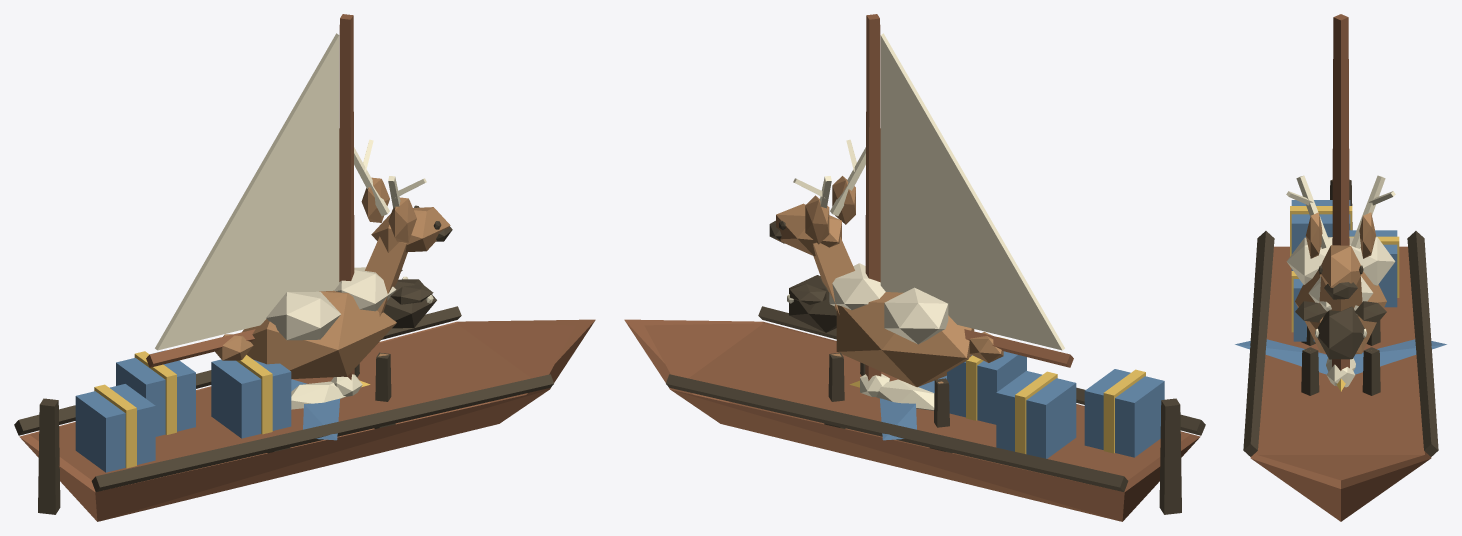
The model's file is ENV_LivingWorld_LOD1.glb.
3 renders of one model, left to right at view 1: azimuth 30°, elevation 25°; view 2: azimuth 150°, elevation 25°; view 3: azimuth 270°, elevation 25°, orthographic. The views are drawn at different scales.
Parts seen in each view (by area): view 1: LivingWorld_boat_sail_LOD1, LivingWorld_boat_deck_LOD1, LivingWorld_boat_hull_LOD1, LivingWorld_boat_gunwale_LOD1.001, LivingWorld_deer_body_LOD1, LivingWorld_boat_cargo_LOD1.002, LivingWorld_boat_cargo_LOD1.001, LivingWorld_boat_mast_LOD1, LivingWorld_boat_cargo_LOD1, LivingWorld_sheep_fleece_LOD1.001, LivingWorld_boat_rudder_LOD1, LivingWorld_boat_gunwale_LOD1 (+14 smaller); view 2: LivingWorld_boat_sail_LOD1, LivingWorld_boat_deck_LOD1, LivingWorld_boat_hull_LOD1, LivingWorld_boat_gunwale_LOD1, LivingWorld_deer_body_LOD1, LivingWorld_boat_cargo_LOD1, LivingWorld_boat_cargo_LOD1.002, LivingWorld_boat_mast_LOD1, LivingWorld_boat_cargo_LOD1.001, LivingWorld_sheep_fleece_LOD1.002, LivingWorld_boat_rudder_LOD1, LivingWorld_deer_face_LOD1 (+15 smaller); view 3: LivingWorld_boat_deck_LOD1, LivingWorld_boat_hull_LOD1, LivingWorld_boat_mast_LOD1, LivingWorld_boat_gunwale_LOD1, LivingWorld_boat_gunwale_LOD1.001, LivingWorld_sheep_face_LOD1, LivingWorld_deer_face_LOD1, LivingWorld_deer_body_LOD1, LivingWorld_sheep_fleece_LOD1.002, LivingWorld_sheep_fleece_LOD1.001, LivingWorld_boat_cargo_LOD1.002, LivingWorld_boat_cargo_LOD1 (+17 smaller).
Part boxes in pixels (box(x1,y1,x2,y2)): LivingWorld_boat_sail_LOD1: box(155, 33, 339, 350); LivingWorld_boat_deck_LOD1: box(30, 323, 575, 479); LivingWorld_boat_hull_LOD1: box(19, 319, 595, 521); LivingWorld_boat_gunwale_LOD1.001: box(91, 374, 553, 491); LivingWorld_deer_body_LOD1: box(242, 290, 396, 378); LivingWorld_boat_cargo_LOD1.002: box(75, 384, 155, 472); LivingWorld_boat_cargo_LOD1.001: box(211, 359, 291, 438); LivingWorld_boat_mast_LOD1: box(339, 14, 354, 379); LivingWorld_boat_cargo_LOD1: box(116, 350, 195, 436); LivingWorld_sheep_fleece_LOD1.001: box(266, 291, 340, 340); LivingWorld_boat_rudder_LOD1: box(38, 398, 60, 514); LivingWorld_boat_gunwale_LOD1: box(14, 306, 461, 435); LivingWorld_boat_sail_LOD1: box(880, 33, 1064, 350); LivingWorld_boat_deck_LOD1: box(644, 323, 1189, 479); LivingWorld_boat_hull_LOD1: box(624, 319, 1200, 521); LivingWorld_boat_gunwale_LOD1: box(666, 374, 1128, 491); LivingWorld_deer_body_LOD1: box(836, 292, 974, 387); LivingWorld_boat_cargo_LOD1: box(996, 371, 1076, 458); LivingWorld_boat_cargo_LOD1.002: box(1084, 369, 1164, 457); LivingWorld_boat_mast_LOD1: box(865, 14, 881, 380); LivingWorld_boat_cargo_LOD1.001: box(947, 351, 1026, 424); LivingWorld_sheep_fleece_LOD1.002: box(884, 287, 948, 344); LivingWorld_boat_rudder_LOD1: box(1159, 398, 1181, 514); LivingWorld_deer_face_LOD1: box(776, 203, 841, 256); LivingWorld_boat_deck_LOD1: box(1257, 248, 1424, 480); LivingWorld_boat_hull_LOD1: box(1250, 246, 1431, 521); LivingWorld_boat_mast_LOD1: box(1332, 14, 1349, 370); LivingWorld_boat_gunwale_LOD1: box(1407, 231, 1438, 456); LivingWorld_boat_gunwale_LOD1.001: box(1243, 231, 1274, 456); LivingWorld_sheep_face_LOD1: box(1317, 306, 1364, 359); LivingWorld_deer_face_LOD1: box(1320, 245, 1361, 287); LivingWorld_deer_body_LOD1: box(1295, 270, 1386, 353); LivingWorld_sheep_fleece_LOD1.002: box(1349, 237, 1395, 285); LivingWorld_sheep_fleece_LOD1.001: box(1286, 237, 1332, 284); LivingWorld_boat_cargo_LOD1.002: box(1291, 200, 1350, 270); LivingWorld_boat_cargo_LOD1: box(1349, 230, 1397, 307).
Size of the model in its own units: 6.94 by 5.28 by 2.36.
